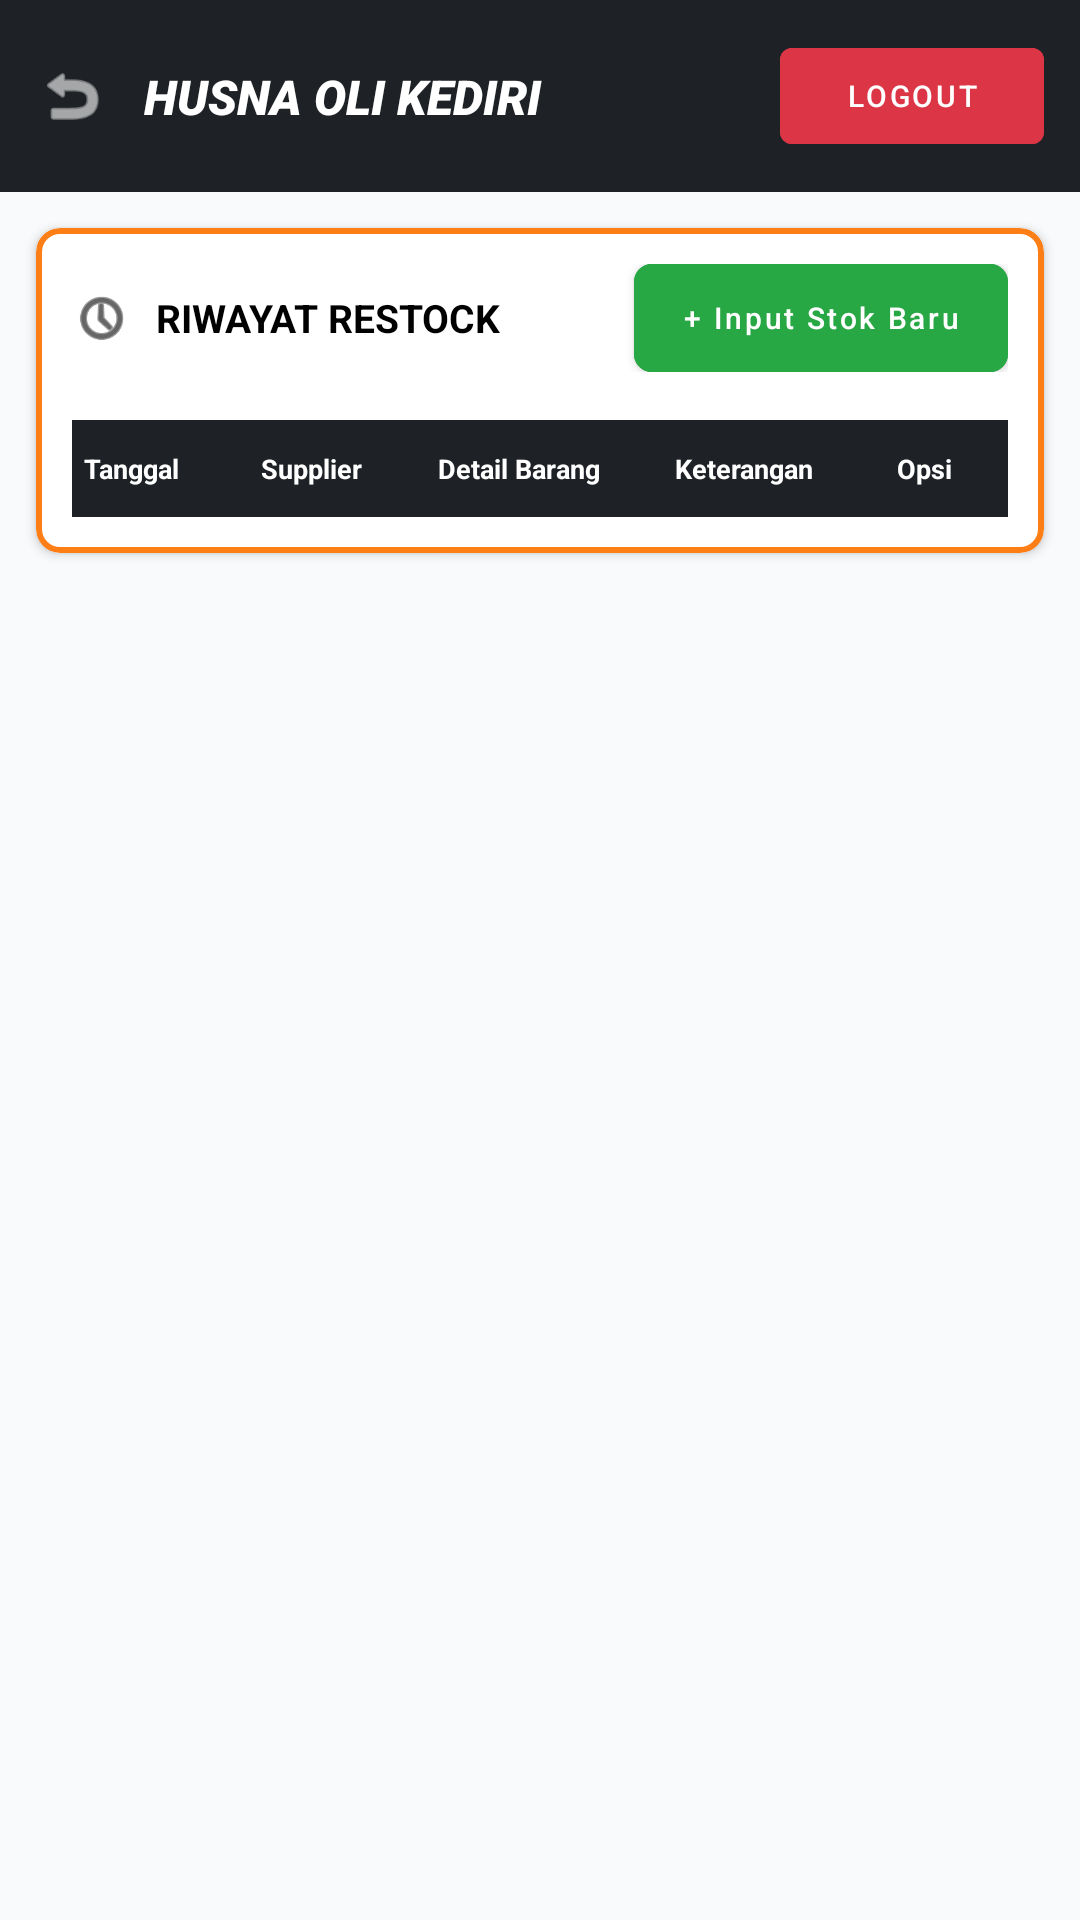

Point at icon controls on the screen. Image size 1080×1920, points as (x=x, y=y).
recent history: (x=101, y=318)
revert: (x=73, y=96)
